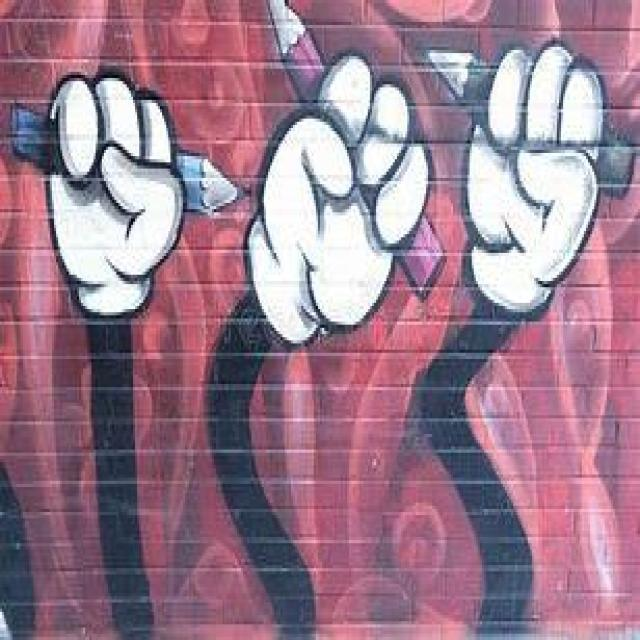spitting: (206, 0, 446, 640), (6, 68, 253, 640), (420, 34, 638, 640)
